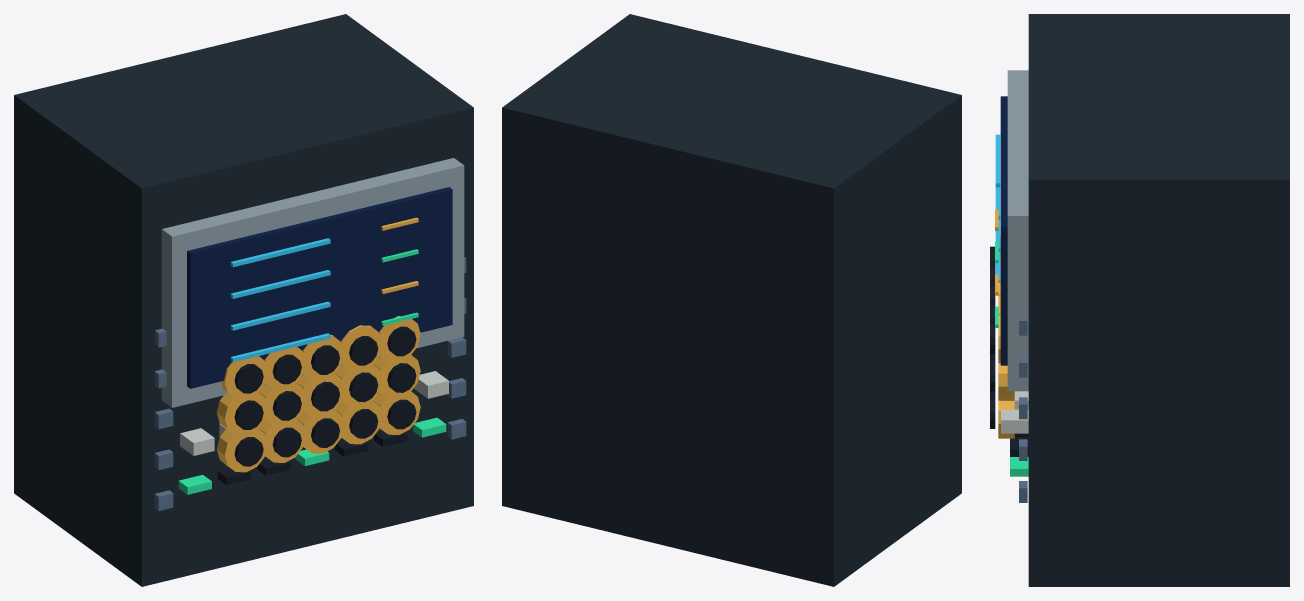
The model's file is 47_L84_AttitudeFlightController.fbx.
3 renders of one model, left to right at view 1: azimuth 30°, elevation 25°; view 2: azimuth 150°, elevation 25°; view 3: azimuth 270°, elevation 25°, orthographic. The views are drawn at different scales.
Parts seen in each view (by area): view 1: L84_AttitudeFlightController, L84_AttitudeFlightController_Part_0010, L84_AttitudeFlightController_Part_0020, L84_AttitudeFlightController_Part_0022, L84_AttitudeFlightController_Part_0018, L84_AttitudeFlightController_Part_0014, L84_AttitudeFlightController_Part_0012, L84_AttitudeFlightController_Part_0026, L84_AttitudeFlightController_Part_0016, L84_AttitudeFlightController_Part_0024, L84_AttitudeFlightController_Part_0028, L84_AttitudeFlightController_Part_0034 (+19 smaller); view 2: L84_AttitudeFlightController; view 3: L84_AttitudeFlightController, L84_AttitudeFlightController_Part_0028.
Part boxes in pixels (box(x1,y1,x2,y2)): L84_AttitudeFlightController: box(14, 14, 473, 586); L84_AttitudeFlightController_Part_0010: box(217, 427, 267, 472); L84_AttitudeFlightController_Part_0020: box(216, 391, 267, 434); L84_AttitudeFlightController_Part_0022: box(259, 381, 305, 426); L84_AttitudeFlightController_Part_0018: box(373, 391, 420, 434); L84_AttitudeFlightController_Part_0014: box(297, 409, 344, 453); L84_AttitudeFlightController_Part_0012: box(258, 418, 305, 462); L84_AttitudeFlightController_Part_0026: box(335, 363, 381, 407); L84_AttitudeFlightController_Part_0016: box(335, 399, 381, 444); L84_AttitudeFlightController_Part_0024: box(297, 372, 344, 417); L84_AttitudeFlightController_Part_0028: box(373, 353, 420, 396); L84_AttitudeFlightController_Part_0034: box(301, 335, 344, 380); L84_AttitudeFlightController: box(502, 14, 961, 586); L84_AttitudeFlightController: box(995, 14, 1289, 586); L84_AttitudeFlightController_Part_0028: box(998, 363, 1014, 400).
Bounding box in the file's own units: 99.96 × 115 × 76.52.
